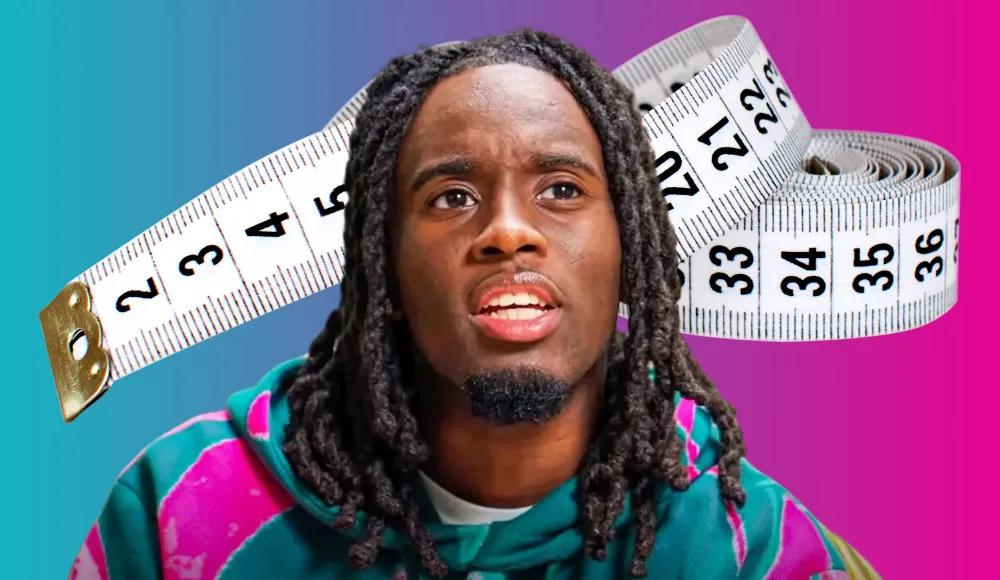kai-cenat: (385, 61, 622, 420)
